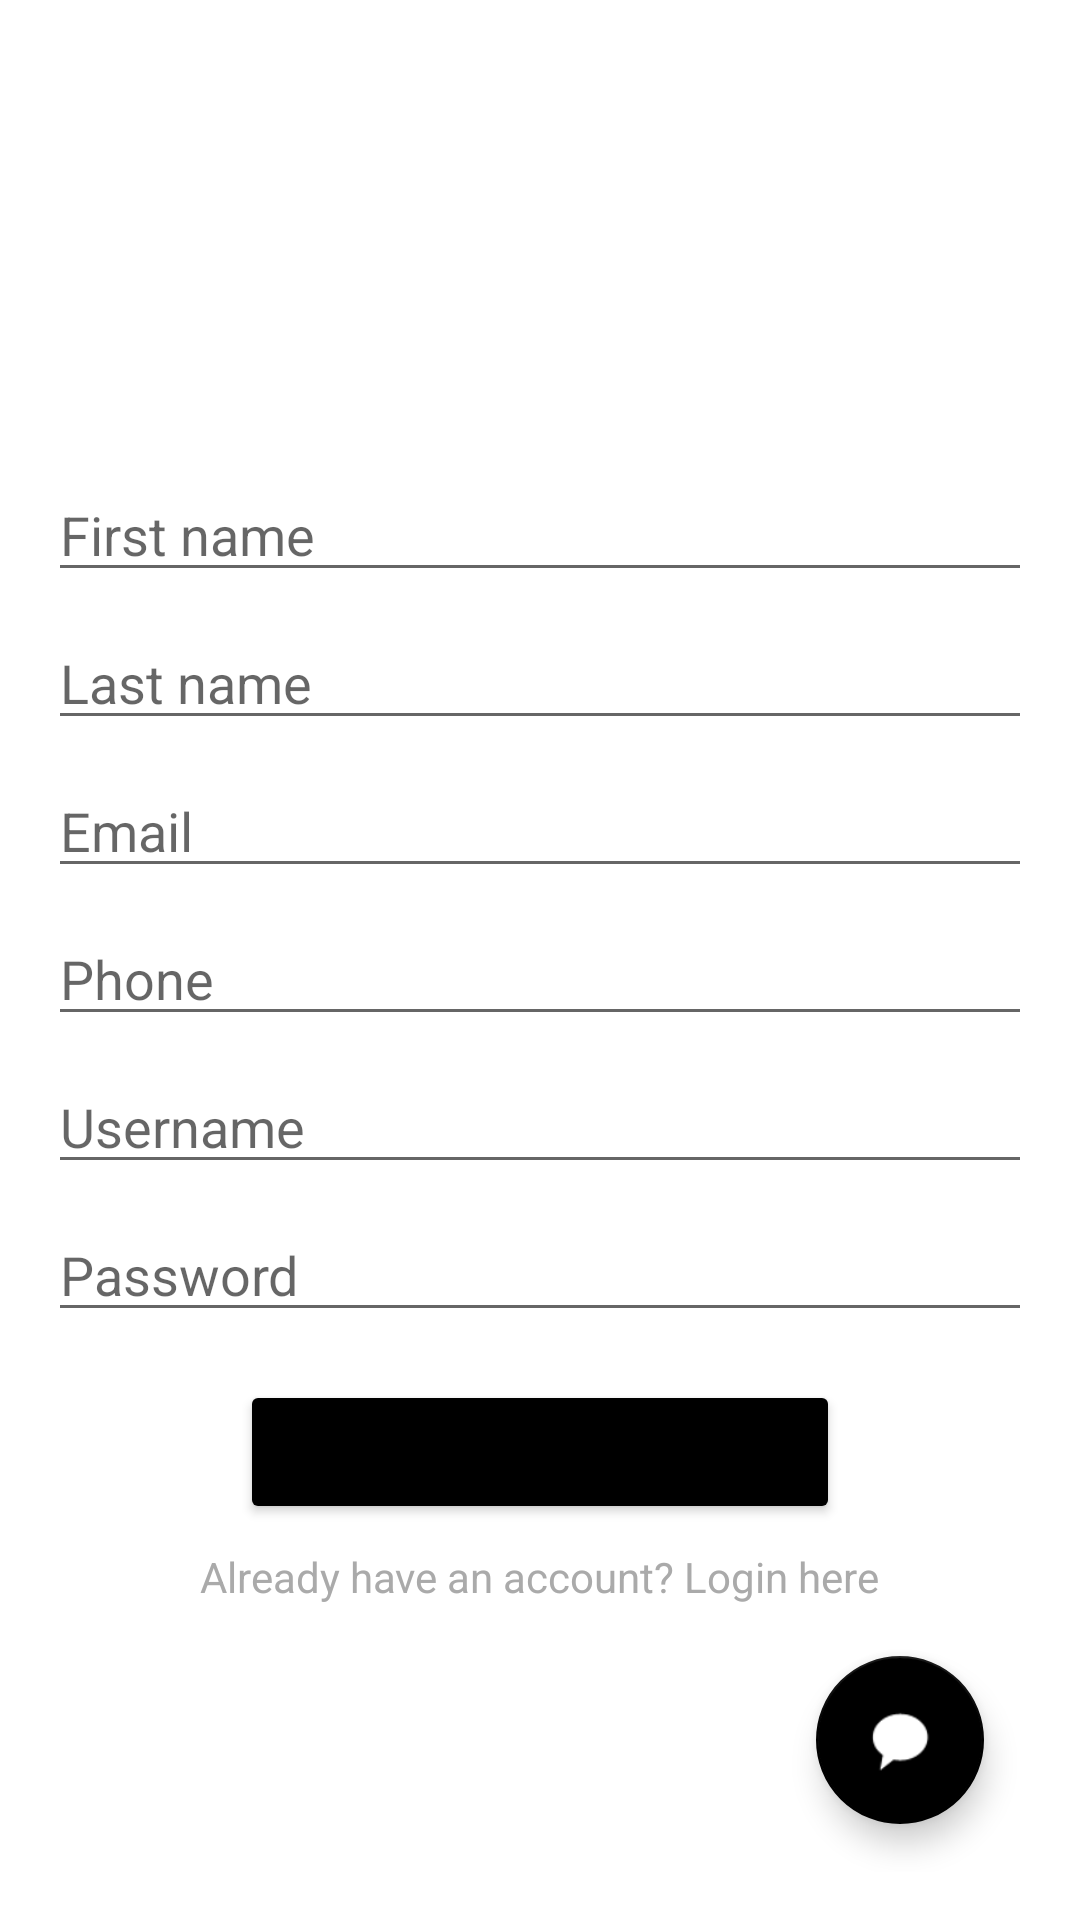

Named icons in this screenshot (1080 x 1920) and their bounding boxes, bbox(x1, y1, x2, y2):
sym action chat: bbox(816, 1656, 984, 1824)
